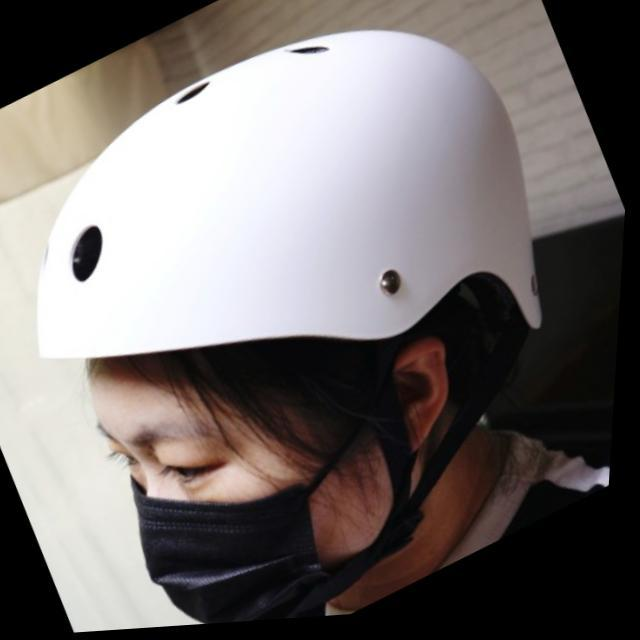Helmet: (33, 26, 545, 640)
